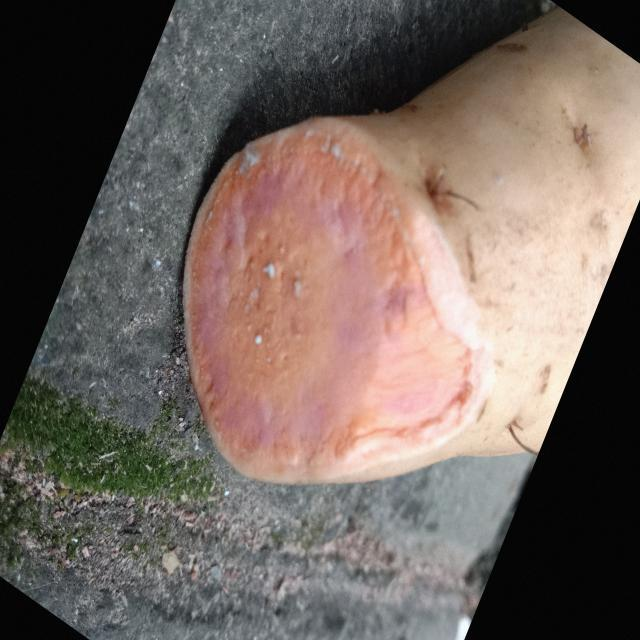Healthy Sweet Potato: (184, 118, 494, 483)
